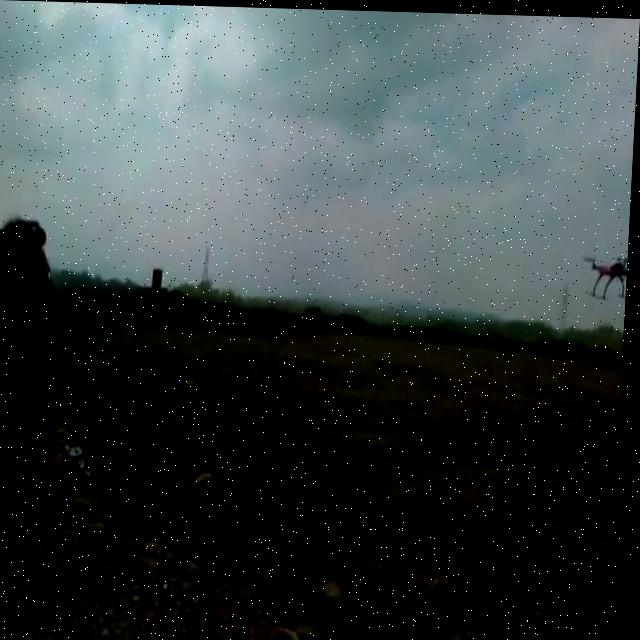drone: (582, 245, 629, 297)
